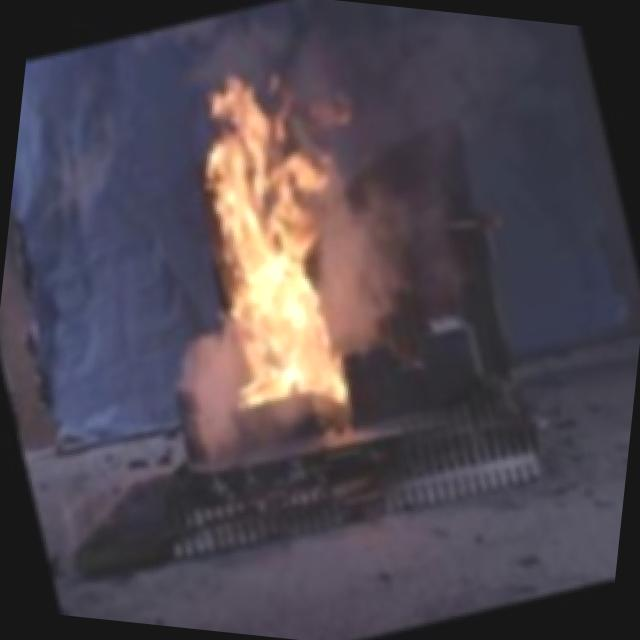fire: (112, 6, 475, 488)
